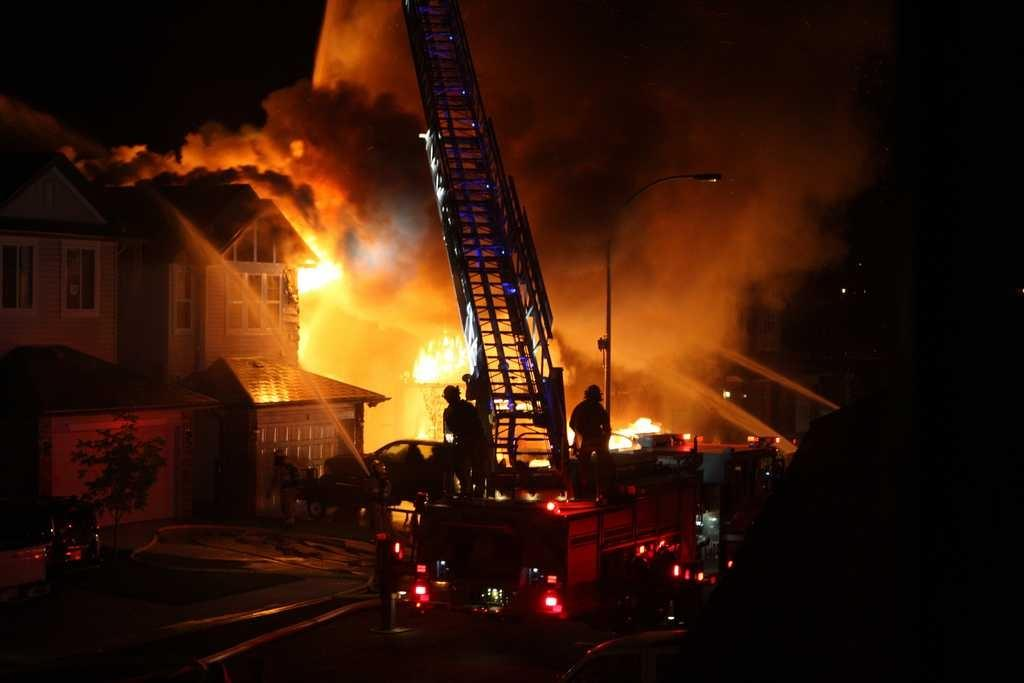fire: (297, 218, 388, 342), (408, 337, 473, 388), (612, 413, 670, 448)
smoke: (617, 217, 713, 405)
